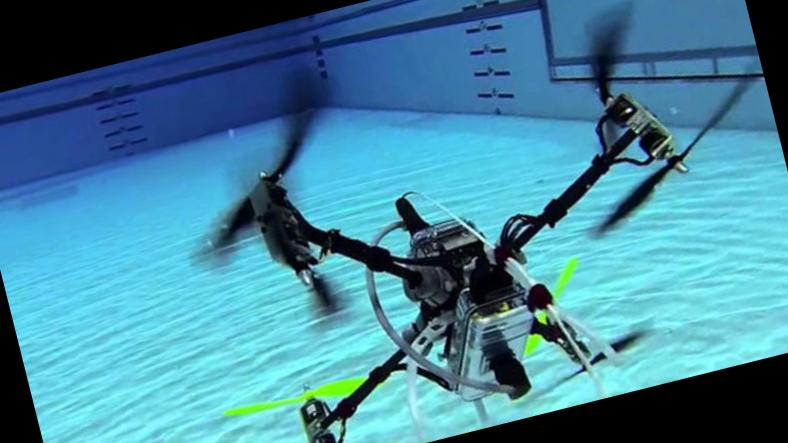drone: (63, 4, 788, 443)
